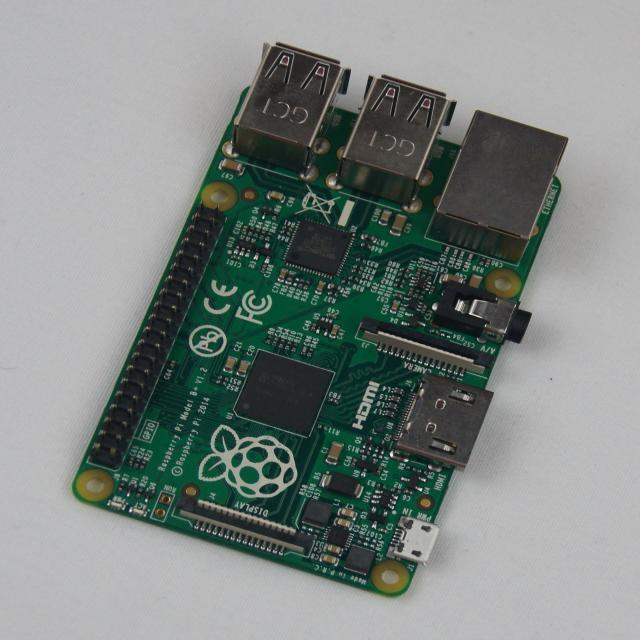Raspberry Pi 1 B-: (74, 44, 568, 596)
